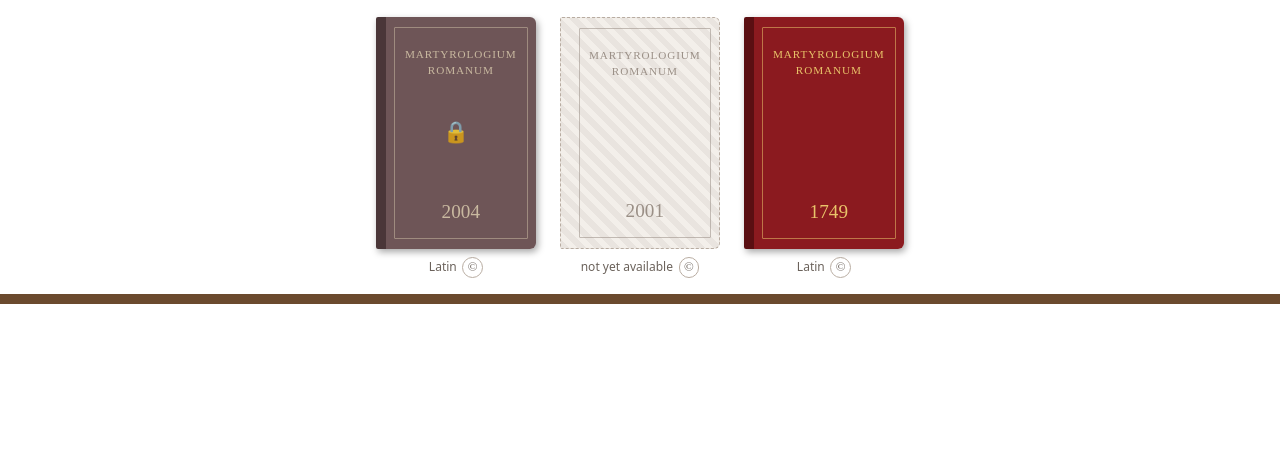
Bookshelf › tells a signed-in reader without rights that they have no access
This screenshot has width=1280, height=472.
Click the button with aria-label "2004, Latin (locked)". click: click(456, 133)
box: [376,17,536,249]
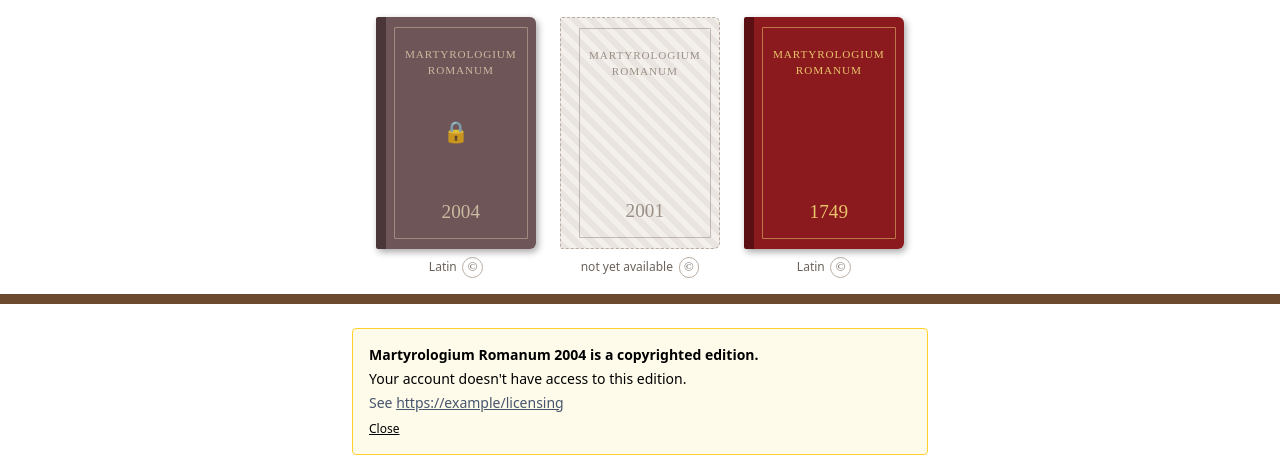
Check: the message shows "Your account doesn't have access to this edition", box [369,369,686,388]
Check: the message shows "See https://example/licensing", box [352,328,928,455]
